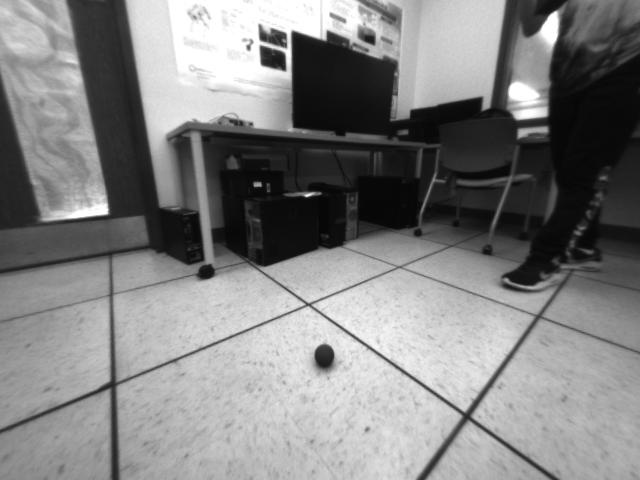dogtoy: (309, 338, 343, 374)
